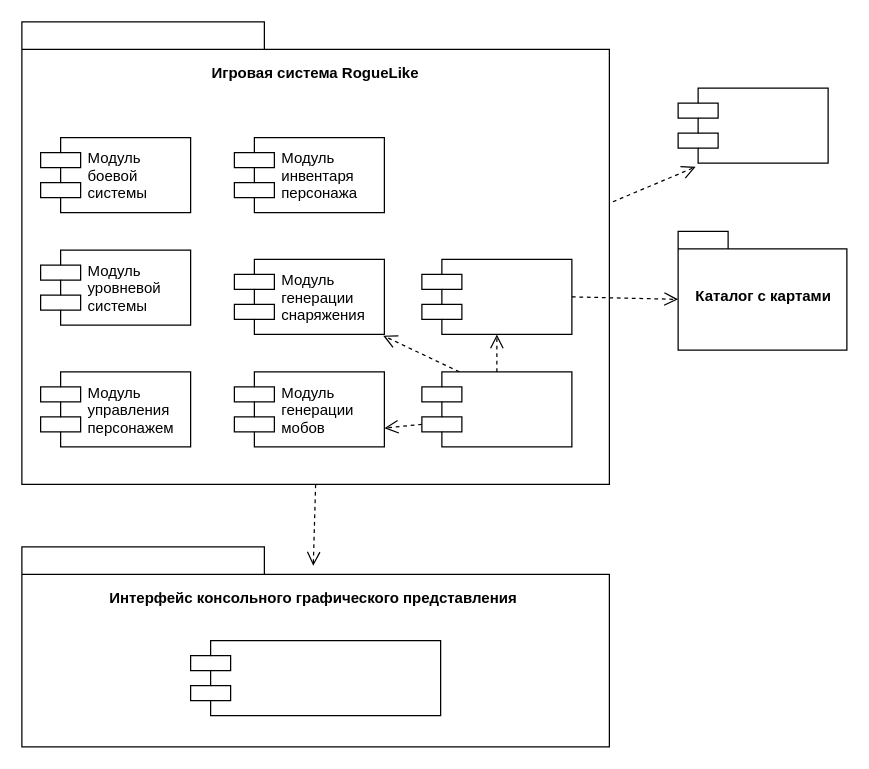
Some shapes in this 869 by 769 pixel diagram are drawn without their labels. The centre of each missing label's shape, as x and y in pixels:
"consoleBestestsGraphic.so" belongs at point 315,677.
"Java Runtime Environment" belongs at point 752,125.
"Модуль генерации карт" belongs at point 496,296.
"Модуль генерации мира" belongs at point 496,409.
